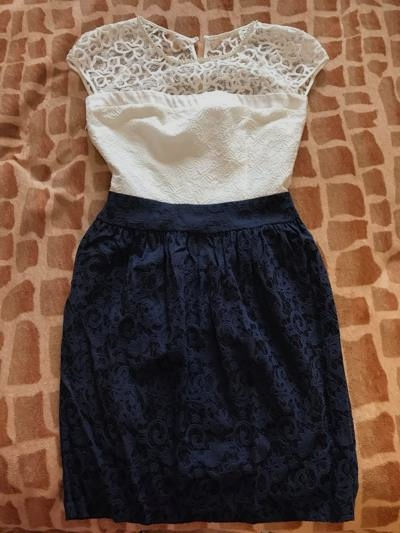Dress: (38, 5, 360, 524)
